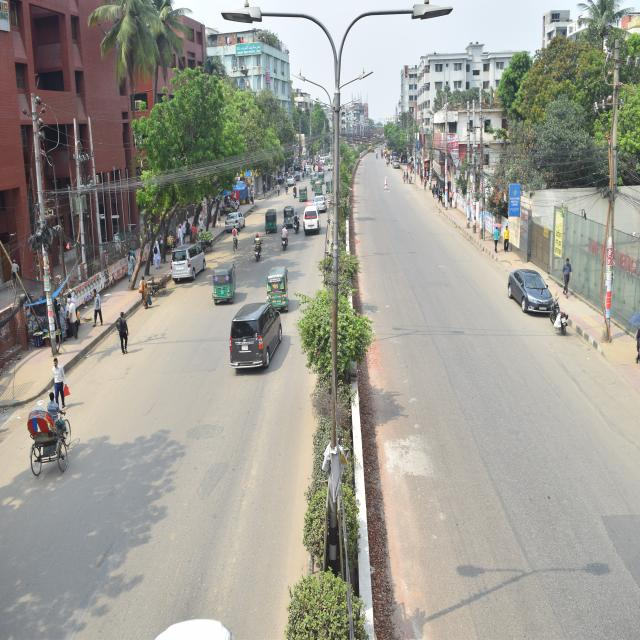car: (508, 271, 560, 323), (299, 207, 317, 231), (308, 189, 323, 208)
microbus: (232, 295, 288, 383), (172, 244, 205, 283)
motorbike: (552, 302, 572, 339), (253, 230, 263, 260)
